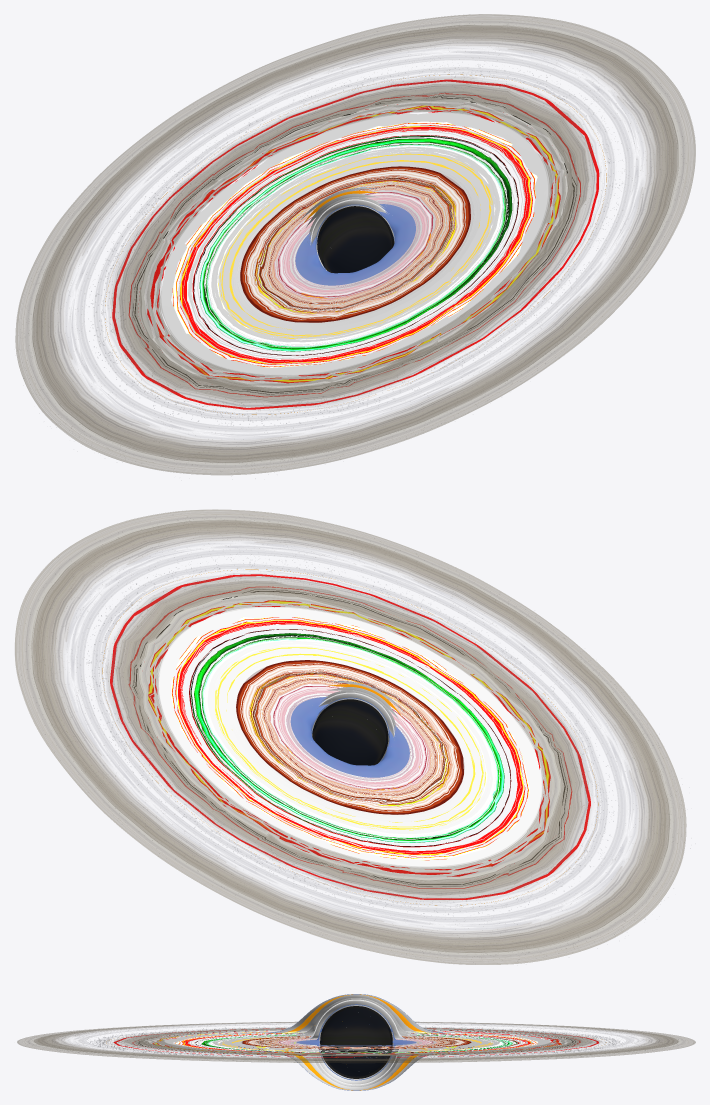
Rendered from black_hole.draco.glb.
3 views of the same model, one above another, from view 1: azimuth 30°, elevation 25°; view 2: azimuth 150°, elevation 25°; view 3: azimuth 270°, elevation 25° (orthographic). The views are drawn at different scales.
Parts seen in each view (by area): view 1: black hole_ring, black hole; view 2: black hole_ring, black hole; view 3: black hole, black hole_ring.
Boxes of the visible parts, box(x1,y1,x2,y2) form: black hole_ring: box(15, 14, 695, 475); black hole: box(105, 74, 606, 414); black hole_ring: box(15, 509, 686, 964); black hole: box(102, 569, 598, 905); black hole: box(106, 994, 606, 1090); black hole_ring: box(17, 1022, 695, 1062).
Size of what is drawn, in the model's own units: 3095 by 1219 by 3298.
7 materials, 6 textured.
